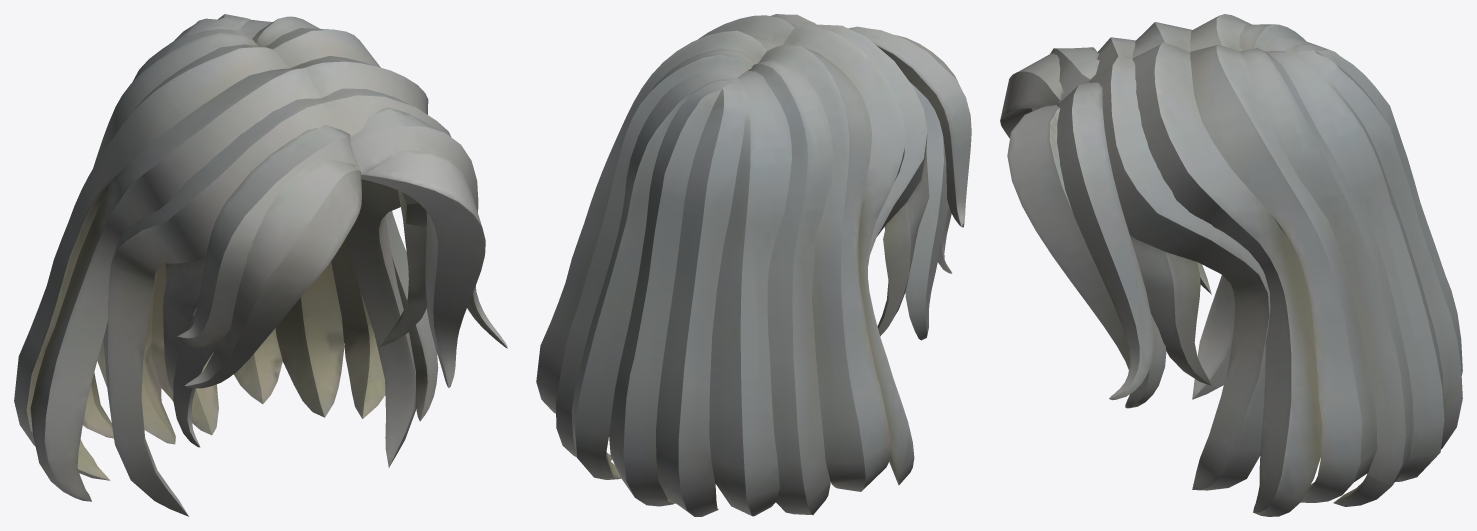
Rendered from hair_long.glb.
3 views of the same model, side by side, from view 1: azimuth 30°, elevation 25°; view 2: azimuth 150°, elevation 25°; view 3: azimuth 270°, elevation 25° (orthographic). The views are drawn at different scales.
Parts seen in each view (by area): view 1: Hair_Long; view 2: Hair_Long; view 3: Hair_Long.
Part boxes in pixels (box(x1,y1,x2,y2)): Hair_Long: box(14, 14, 507, 516); Hair_Long: box(536, 14, 971, 516); Hair_Long: box(1000, 14, 1462, 516).
Size of the model in its own units: 0.2447 by 0.2764 by 0.2705.
1 material, 1 textured.
